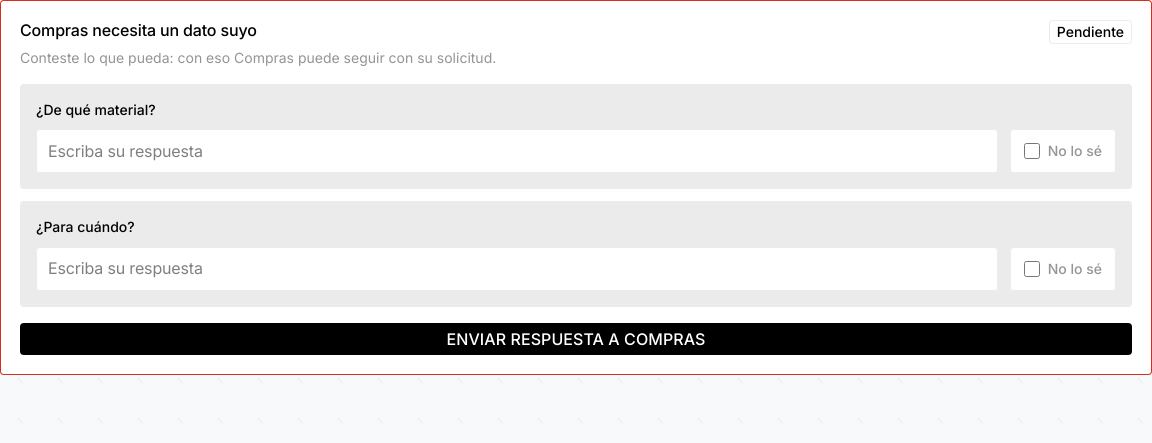
Test: ResponderPreguntas › un fallo de red NO dice 'listo': sería avisarle que su respuesta llegó
This screenshot has width=1152, height=443.
What coordinates should you click on to do the following:
click the button "Enviar respuesta a Compras"
I would click on:
 (576, 339)
Its box is [20,323,1132,355].
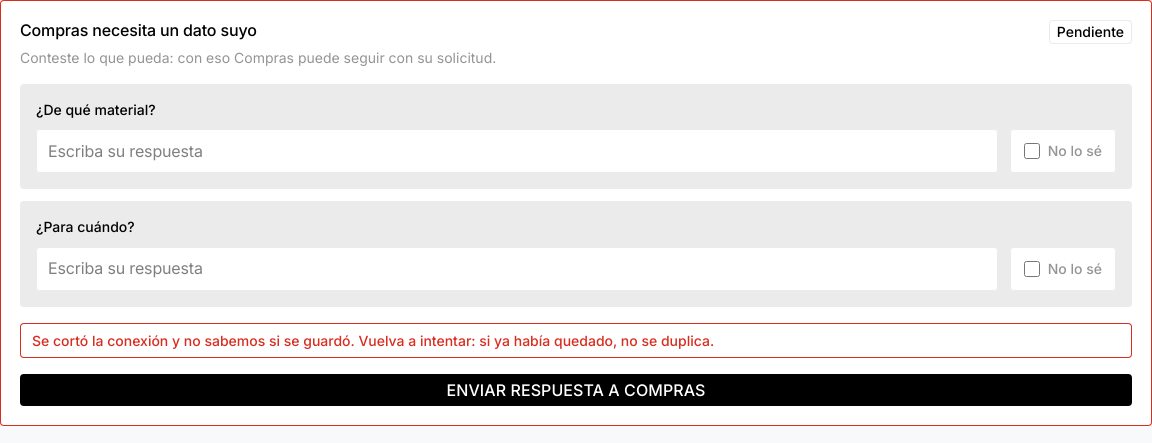
Result: the message is shown at [20,323,1132,358]
Result: the message shows "no sabemos si se guardó" at [32,332,714,349]
